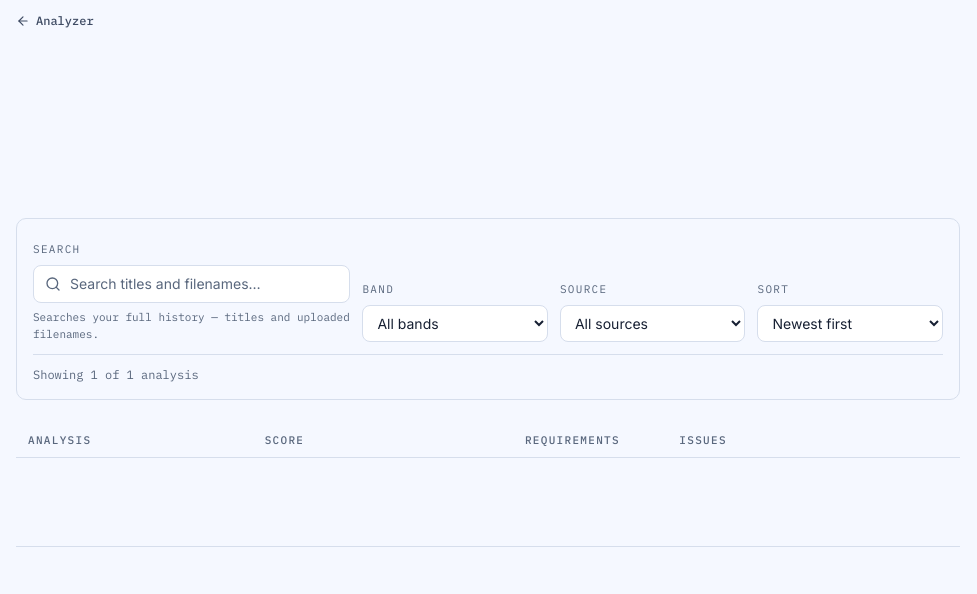
Scenario: HistoryScreen › filtered empties stay distinct with a working clear action
The width and height of the screenshot is (977, 594).
Select "High" in the dropdown labelled "Band" at [455, 324], box x1=362 y1=305 x2=548 y2=342
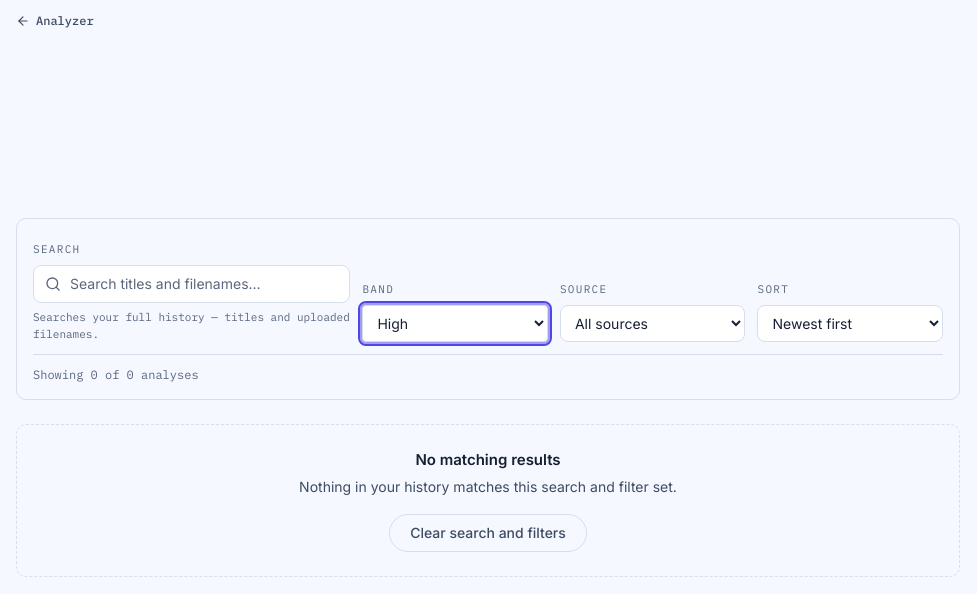
Check: the search field labelled "Search" is shown, box x1=33 y1=265 x2=350 y2=303
Check: the heading "No matching results" is shown, box x1=415 y1=450 x2=561 y2=469
Click the button "Clear search and filters".
click(488, 533)  # box x1=389 y1=514 x2=587 y2=552
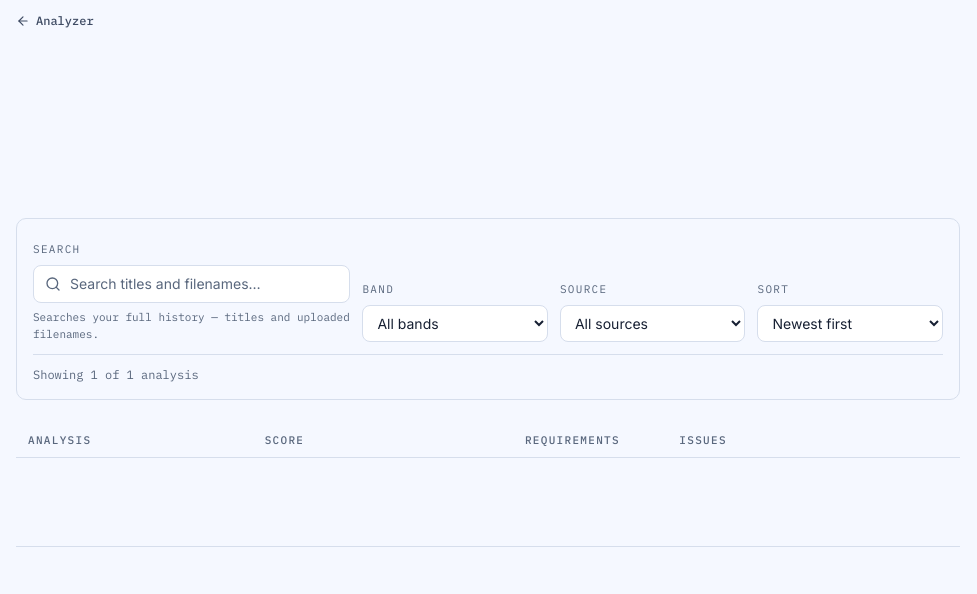
Check: the dropdown labelled "Band" shows "All bands", box x1=362 y1=305 x2=548 y2=342
